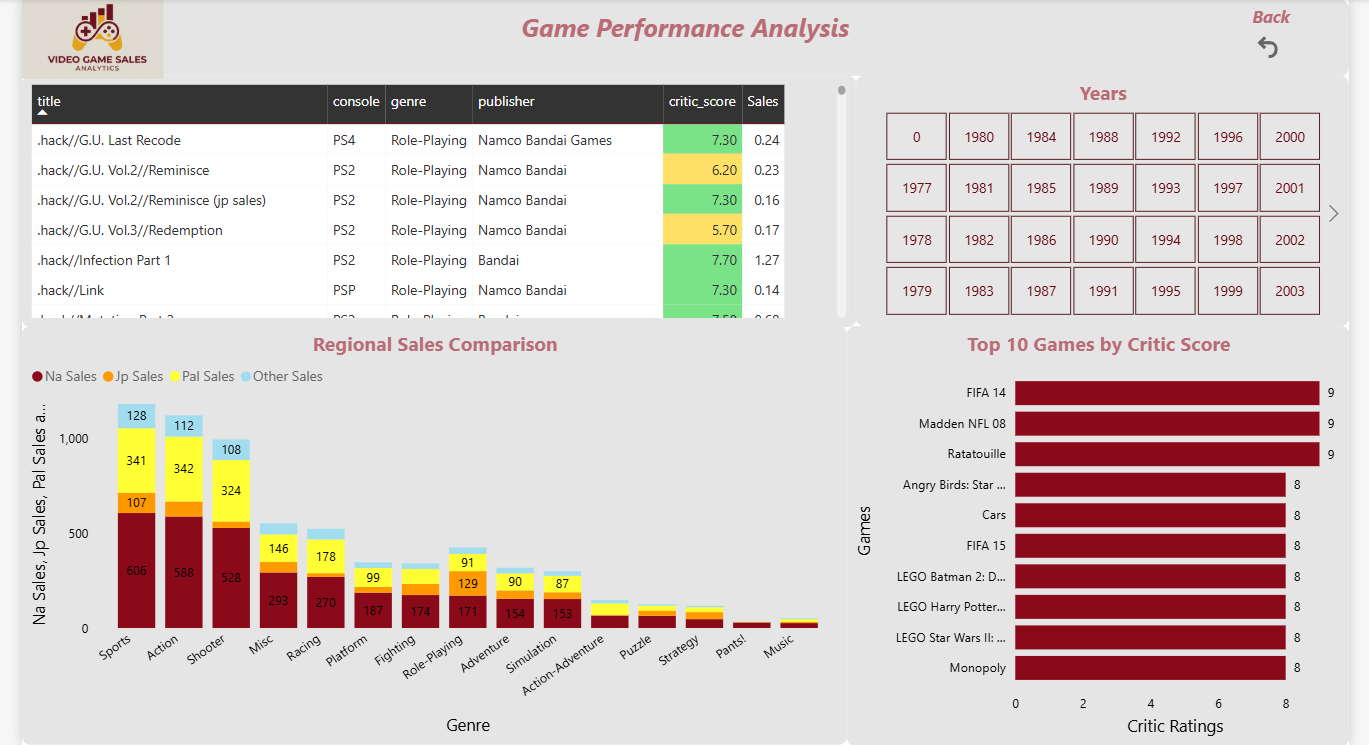

The dashboard page shown, as its layout file describes it:
{"tool":"powerbi","page":{"name":"Game Detail Analysis","canvas":[1280,720],"ordinal":2},"visuals":[{"type":"textbox","box":[0,1.2,1280.1,72.8],"z":0},{"type":"columnChart","title":"Regional Sales Comparison","fields":{"Category":["vg_data.genre"],"Y":["Sum(vg_data.na_sales)","Sum(vg_data.jp_sales)","Sum(vg_data.pal_sales)","Sum(vg_data.other_sales)"]},"box":[0,315.5,795.7,403.9],"z":1000},{"type":"actionButton","title":"Back","box":[1183,1.2,97.1,64.3],"z":2000},{"type":"barChart","title":"Top 10 Games by Critic Score","fields":{"Category":["vg_data.title"],"Y":["CountNonNull(vg_data.critic_score)"]},"box":[795.7,315.5,484.2,405.3],"z":3000},{"type":"slicer","title":"Years","fields":{"Values":["vg_data.release_year"]},"box":[804.4,74,475.6,241.5],"z":4000},{"type":"tableEx","fields":{"Values":["vg_data.title","vg_data.console","vg_data.genre","vg_data.publisher","Avg(vg_data.critic_score)","Sum(vg_data.Sales)"]},"box":[0,74,804.4,242.7],"z":5000},{"type":"image","box":[0,0,137.1,77.7],"z":6000}]}

Visuals, with their boxes on the page's 1280x720 design canvas (x1, y1, x2, y2). These are canvas units, not pixel positions in the 1369x745 screenshot, which may show the page scaled, cropped or inside an application window:
textbox: l=0, t=1, r=1280, b=74
"Regional Sales Comparison" columnChart: l=0, t=316, r=796, b=719
"Back" actionButton: l=1183, t=1, r=1280, b=66
"Top 10 Games by Critic Score" barChart: l=796, t=316, r=1280, b=721
"Years" slicer: l=804, t=74, r=1280, b=316
tableEx - vg_data.title x vg_data.console: l=0, t=74, r=804, b=317
image: l=0, t=0, r=137, b=78
